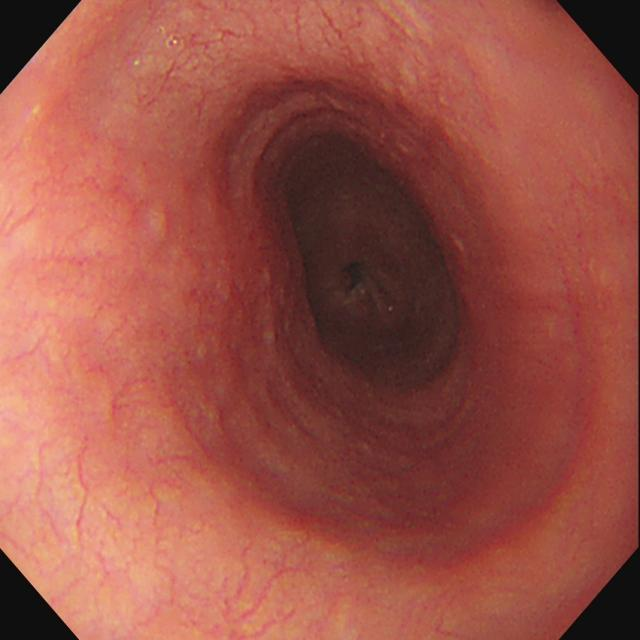E: (278, 158, 448, 371)
